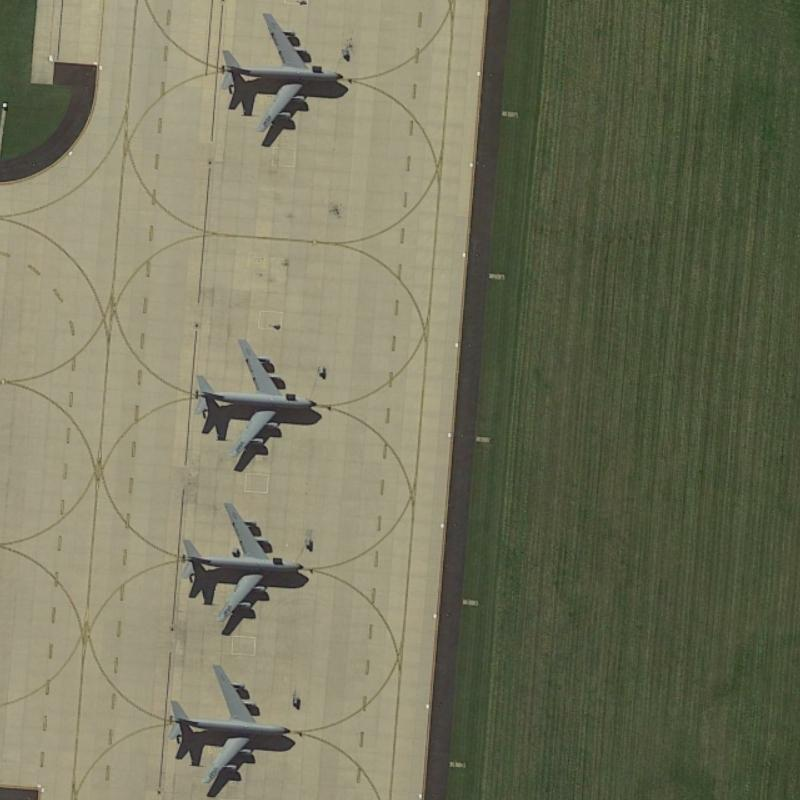A14: (187, 327, 320, 477), (175, 497, 307, 639), (164, 658, 294, 798), (214, 8, 347, 139)
